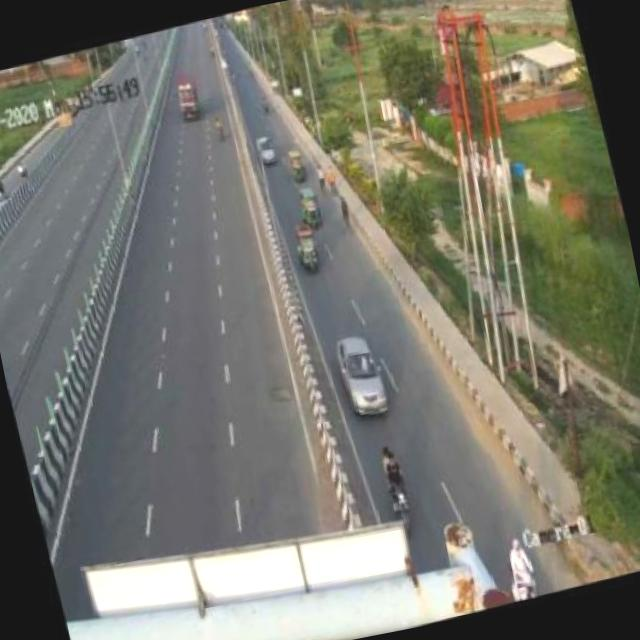car: (334, 332, 392, 422)
